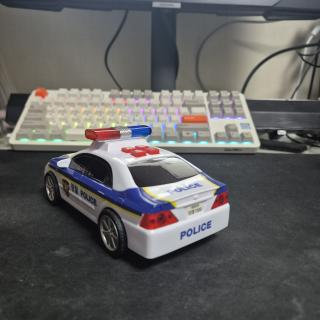Police_car: (44, 125, 230, 259)
